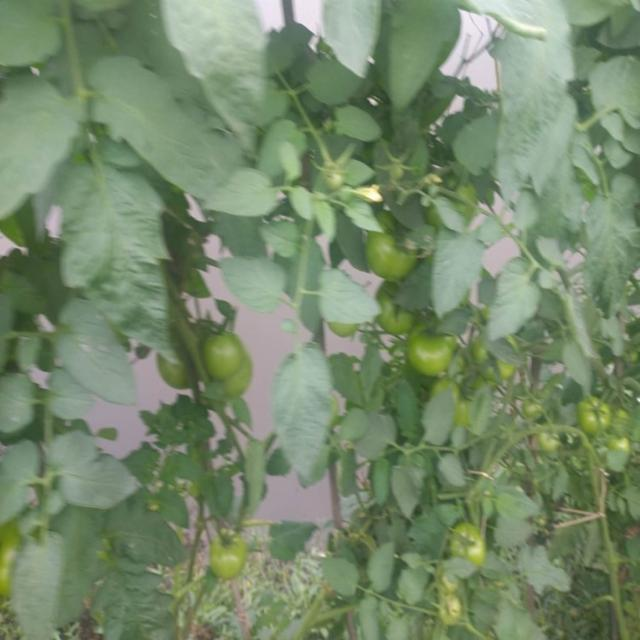tomato: (370, 214, 417, 281), (434, 165, 480, 222), (409, 326, 454, 376), (475, 336, 522, 382), (206, 324, 241, 377), (380, 286, 416, 336), (432, 378, 475, 419), (1, 525, 23, 595), (215, 532, 246, 580), (453, 522, 486, 559), (225, 356, 255, 395), (578, 394, 605, 433), (160, 350, 188, 386), (438, 592, 463, 624), (518, 397, 549, 422), (539, 430, 559, 451), (613, 435, 630, 454), (438, 573, 455, 591)
